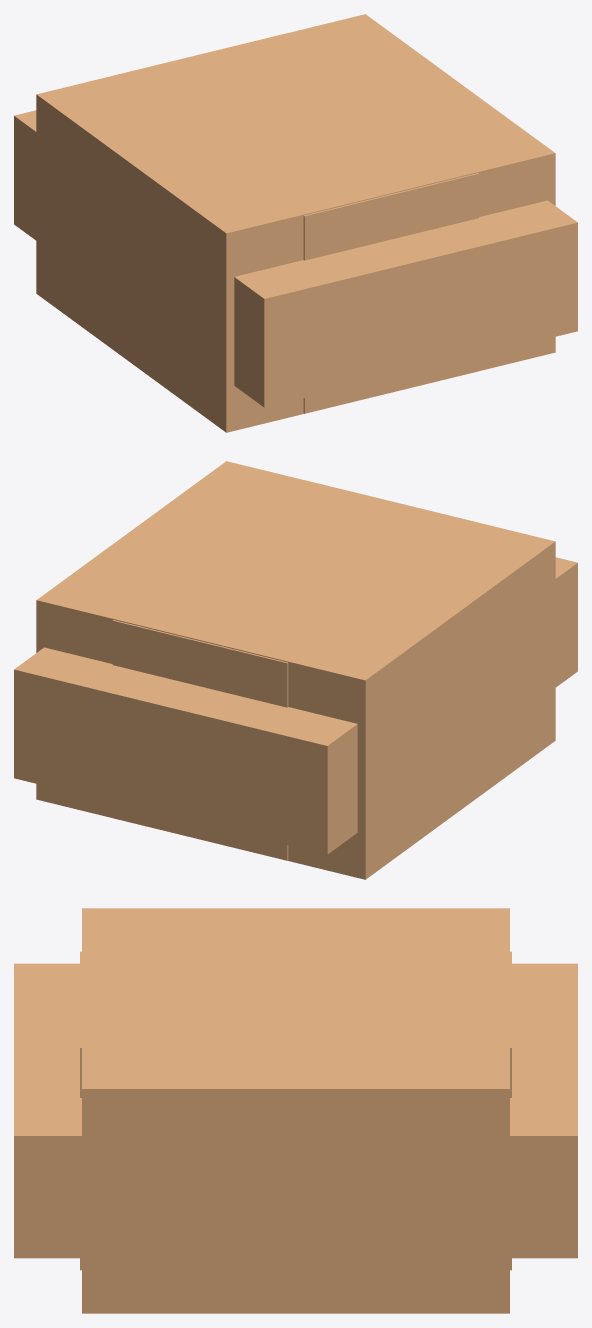
The model's file is Harrods.glb.
3 renders of one model, top to bottom at view 1: azimuth 30°, elevation 25°; view 2: azimuth 150°, elevation 25°; view 3: azimuth 270°, elevation 25°, orthographic. The views are drawn at different scales.
Visible parts, largest first — view 1: Small Cake, HCB, Double Cake, HCB.001; view 2: Small Cake, HCB, Double Cake, HCB.001; view 3: Small Cake, HCB, HCB.001, Double Cake.
Part boxes in pixels (<box>): Small Cake: <box>36,14,555,432</box>; HCB: <box>14,110,577,407</box>; Double Cake: <box>303,173,479,413</box>; HCB.001: <box>14,111,575,298</box>; Small Cake: <box>36,461,555,879</box>; HCB: <box>14,557,577,854</box>; Double Cake: <box>112,620,288,860</box>; HCB.001: <box>16,557,575,745</box>; Small Cake: <box>82,908,509,1313</box>; HCB: <box>14,963,577,1258</box>; HCB.001: <box>14,963,577,1135</box>; Double Cake: <box>80,951,511,1270</box>.
Size of the model in its own units: 0.19 by 0.11 by 0.2505.
